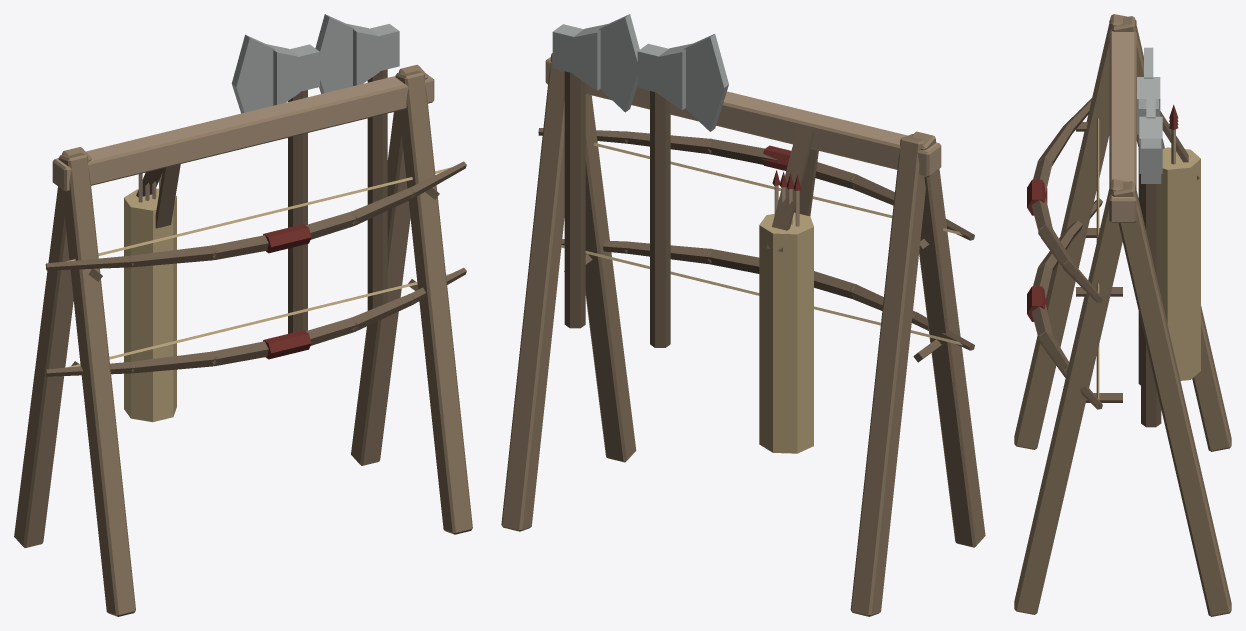
The model's file is weapon_rack_3.glb.
The picture shows the model from 3 angles, left to right: view 1: azimuth 30°, elevation 25°; view 2: azimuth 150°, elevation 25°; view 3: azimuth 270°, elevation 25°; orthographic projection. The views are drawn at different scales.
Parts seen in each view (by area): view 1: Weapon_Rack_3; view 2: Weapon_Rack_3; view 3: Weapon_Rack_3.
Boxes of the visible parts, x1,y1,x2,y2 form: Weapon_Rack_3: (14, 14, 472, 616); Weapon_Rack_3: (501, 14, 985, 616); Weapon_Rack_3: (1014, 14, 1231, 616).
Size of the model in its own units: 1.25 by 1.38 by 0.5563.
